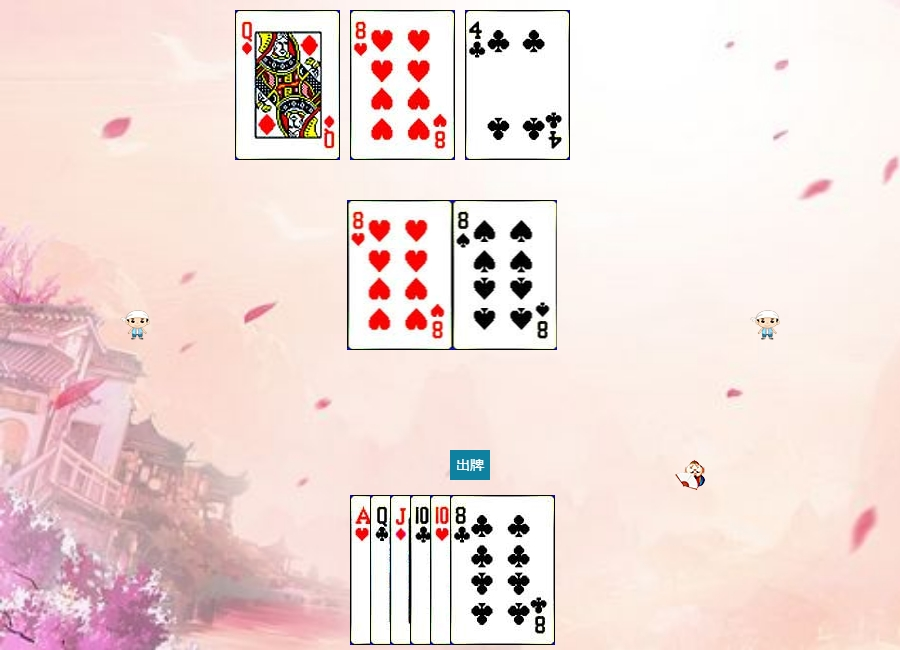10~2: (410, 495, 515, 645)
10~3: (430, 495, 535, 645)
11~1: (390, 495, 495, 645)
12~1: (235, 10, 340, 160)
12~2: (370, 495, 475, 645)
14~3: (350, 495, 455, 645)
4~2: (465, 10, 570, 160)
8~2: (450, 495, 555, 645)
8~3: (350, 10, 455, 160), (348, 200, 453, 350)
8~4: (453, 200, 558, 350)
